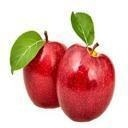apple: (22, 39, 71, 109)
